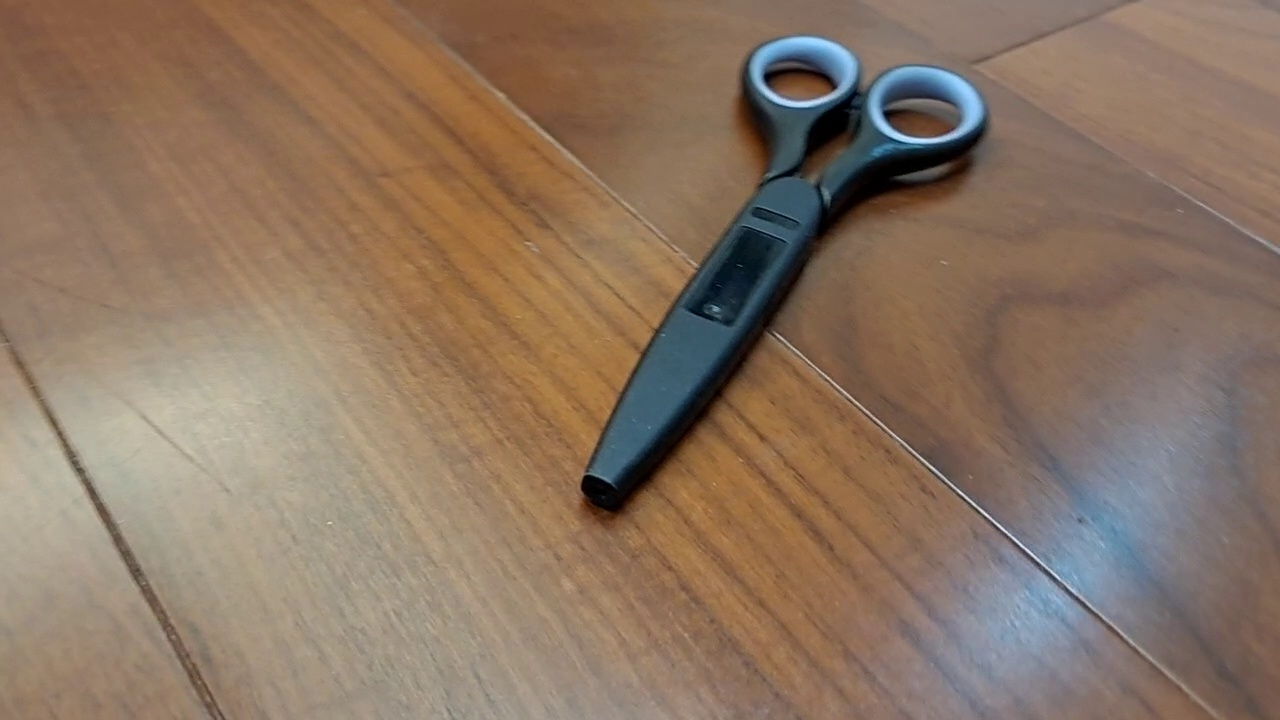scissors: (578, 32, 991, 515)
